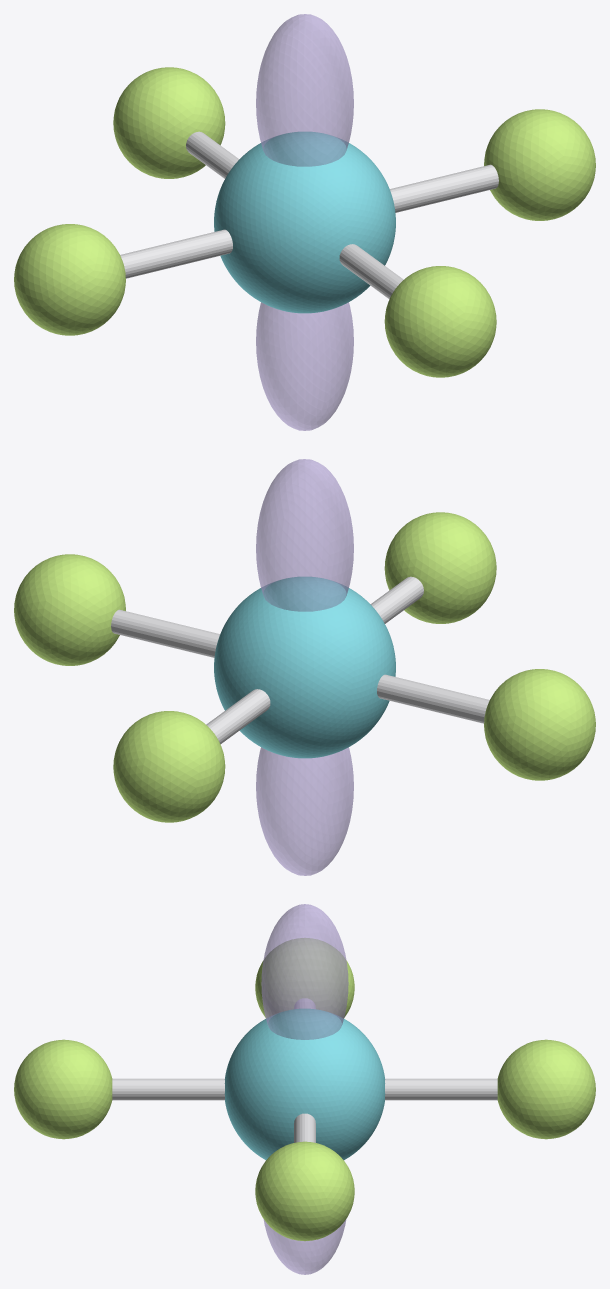
Rendered from XeF4.glb.
The picture shows the model from 3 angles, top to bottom: view 1: azimuth 30°, elevation 25°; view 2: azimuth 150°, elevation 25°; view 3: azimuth 270°, elevation 25°; orthographic projection. The views are drawn at different scales.
Visible parts, largest first — view 1: Xe_centre, lone_pair_0, lone_pair_1, F_3, F_4, F_2, F_5, bond_3, bond_2, bond_4, bond_5; view 2: Xe_centre, lone_pair_0, lone_pair_1, F_3, F_5, F_2, F_4, bond_3, bond_2, bond_5, bond_4; view 3: Xe_centre, lone_pair_0, F_2, F_4, F_5, F_3, bond_4, bond_5, lone_pair_1, bond_2.
Part boxes in pixels (x1,y1,x2,y2): Xe_centre: (214,131,395,313); lone_pair_0: (256,14,353,166); lone_pair_1: (256,302,353,430); F_3: (14,224,125,335); F_4: (384,266,496,377); F_2: (484,109,595,220); F_5: (113,67,225,178); bond_3: (120,229,232,278); bond_2: (390,164,498,212); bond_4: (339,244,403,299); bond_5: (186,131,239,178); Xe_centre: (214,576,395,758); lone_pair_0: (256,459,353,611); lone_pair_1: (256,747,353,875); F_3: (484,669,595,780); F_5: (113,711,225,822); F_2: (14,554,125,665); F_4: (384,512,496,623); bond_3: (377,674,489,723); bond_2: (111,609,219,657); bond_5: (206,689,270,744); bond_4: (370,576,423,623); Xe_centre: (224,1008,385,1159); lone_pair_0: (261,904,348,1039); F_2: (255,1141,354,1241); F_4: (14,1039,112,1139); F_5: (497,1039,595,1139); F_3: (255,938,354,1017); bond_4: (112,1078,224,1100); bond_5: (385,1078,497,1100); lone_pair_1: (263,1219,346,1274); bond_2: (294,1113,315,1142).
Bounding box in the file's own units: 0.374 × 0.26 × 0.374.
